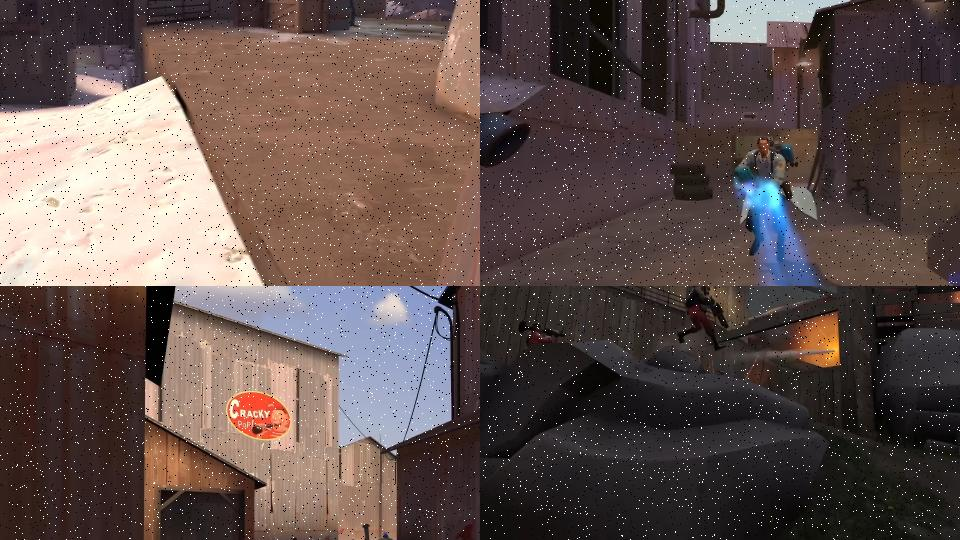Enemy: (732, 137, 819, 261), (681, 286, 723, 348), (519, 320, 567, 347)
